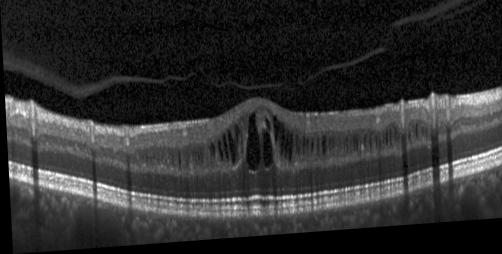intraretinal_cyst: (244, 115, 259, 175), (260, 132, 271, 172), (226, 133, 235, 167), (271, 119, 279, 149), (278, 129, 285, 160), (286, 136, 292, 166), (282, 134, 288, 163), (221, 136, 227, 162), (391, 132, 398, 149), (216, 144, 221, 163), (320, 140, 325, 159), (239, 134, 243, 157), (197, 149, 202, 167), (300, 140, 304, 160), (232, 128, 238, 140), (209, 145, 213, 163), (387, 134, 391, 152), (264, 120, 269, 134), (413, 130, 417, 145), (309, 142, 312, 158), (304, 142, 307, 158), (315, 143, 318, 158), (176, 155, 179, 170), (367, 139, 370, 154), (326, 141, 329, 156), (384, 136, 387, 150), (419, 133, 423, 143), (344, 142, 347, 155), (330, 140, 333, 153), (184, 155, 187, 168), (143, 155, 146, 168), (361, 140, 364, 152), (357, 142, 360, 154), (169, 157, 172, 169), (196, 153, 199, 165), (207, 150, 210, 161), (350, 142, 353, 153), (294, 141, 296, 156), (190, 154, 193, 164), (377, 139, 379, 153), (373, 140, 375, 153), (380, 137, 382, 149), (354, 143, 356, 155), (341, 144, 343, 156), (407, 138, 410, 146), (423, 134, 426, 142), (296, 151, 298, 161), (348, 145, 350, 154), (151, 154, 153, 161), (140, 155, 142, 162), (193, 150, 194, 164), (337, 145, 339, 151)
vitreous_detachment: (4, 52, 386, 99), (393, 0, 480, 32)
